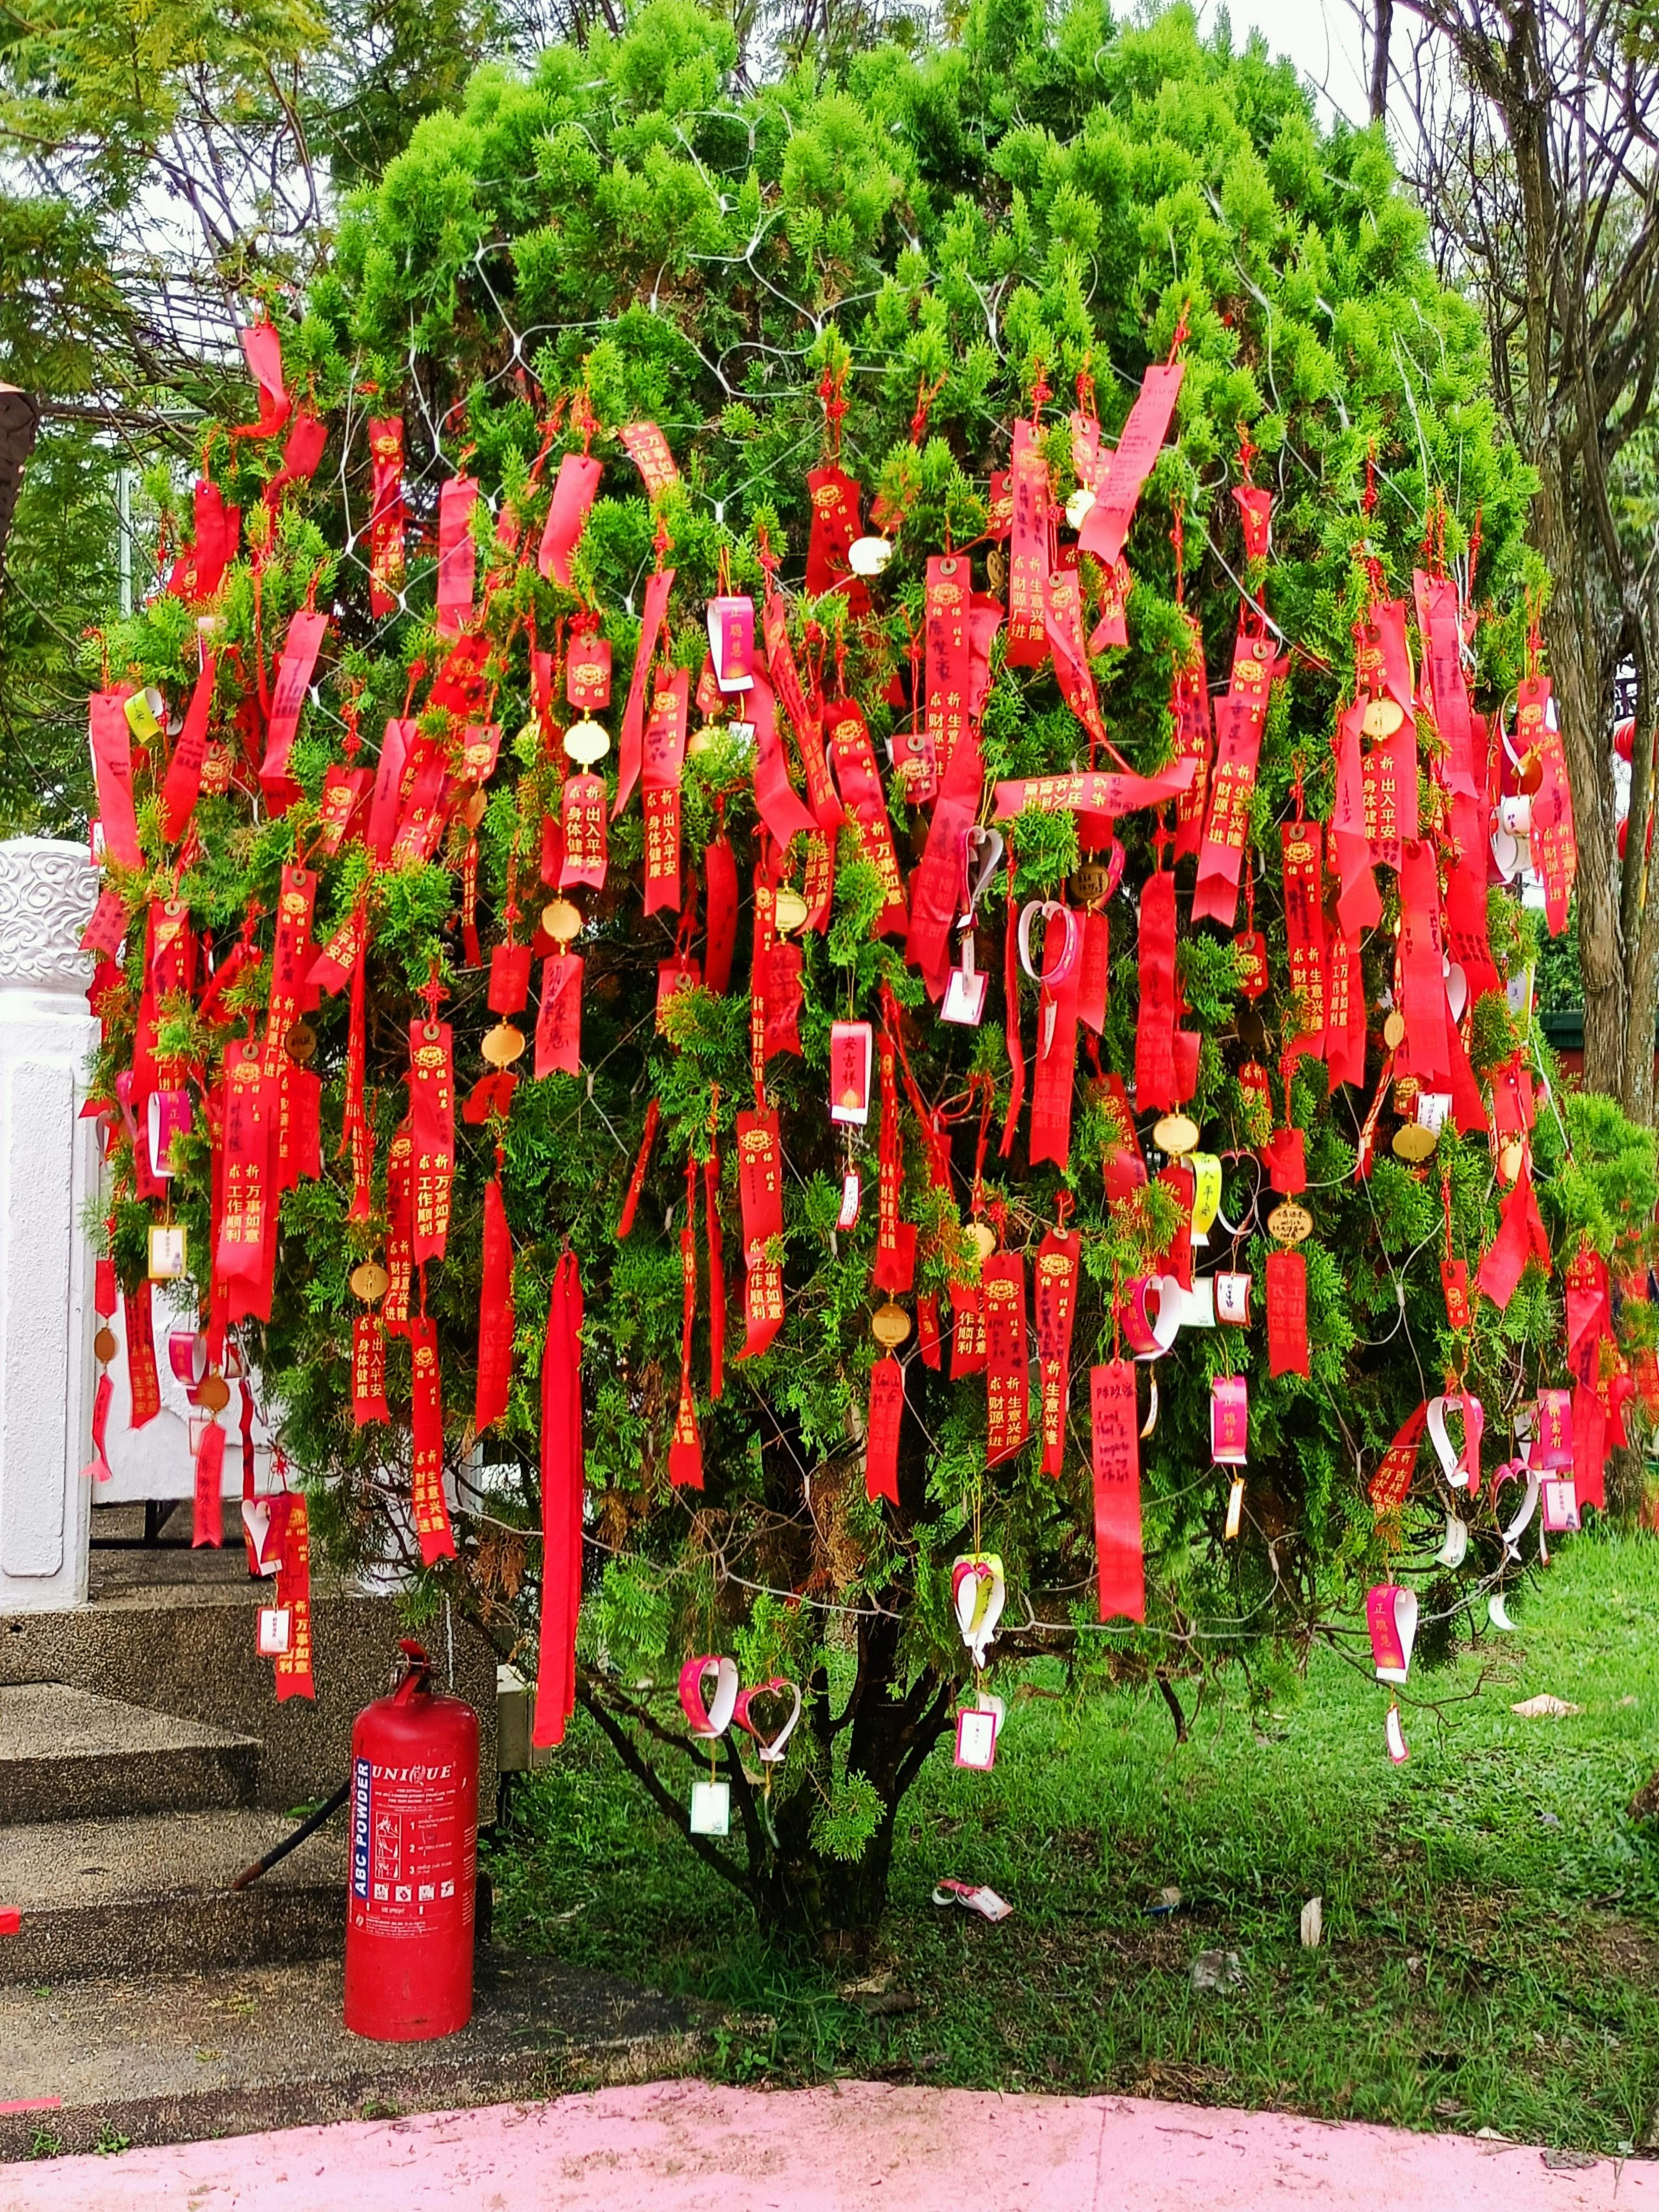extintor: (335, 1623, 486, 2047)
